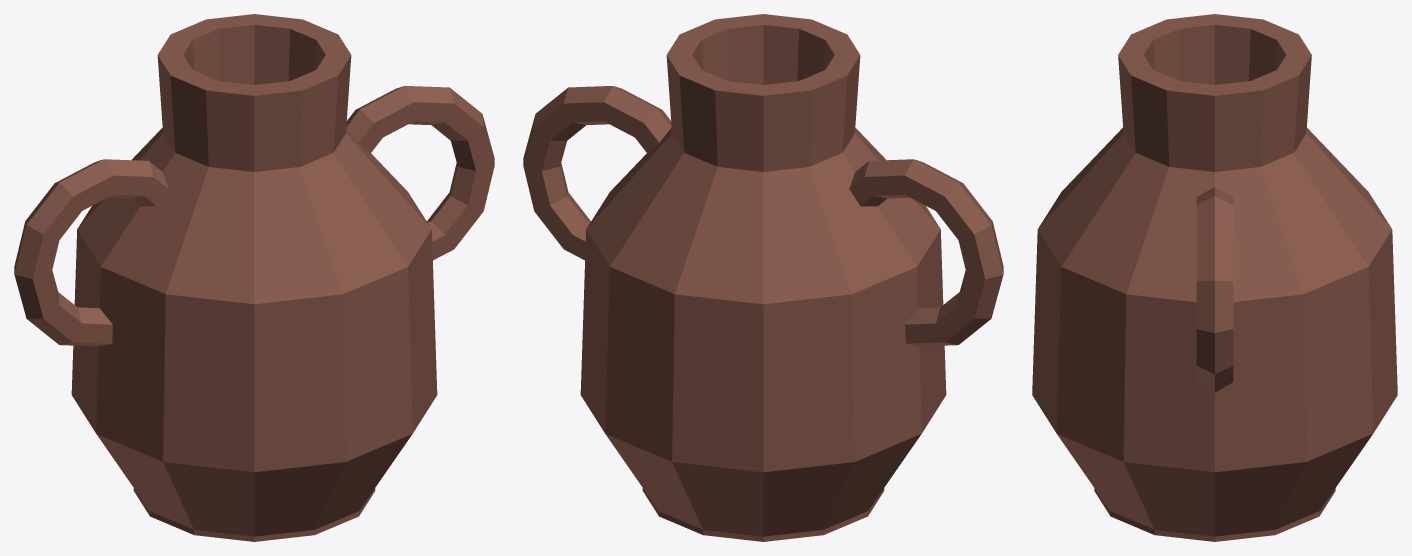
The model's file is handled-amphora.glb.
3 views of the same model, side by side, from view 1: azimuth 30°, elevation 25°; view 2: azimuth 150°, elevation 25°; view 3: azimuth 270°, elevation 25° (orthographic).
Visible parts, largest first — view 1: handled-amphora__body; view 2: handled-amphora__body; view 3: handled-amphora__body.
Boxes of the visible parts, x1=… form: handled-amphora__body: x1=14, y1=14, x2=494, y2=541; handled-amphora__body: x1=523, y1=14, x2=1003, y2=541; handled-amphora__body: x1=1032, y1=14, x2=1397, y2=541.
Bounding box in the file's own units: 0.576 × 0.5 × 0.38.
